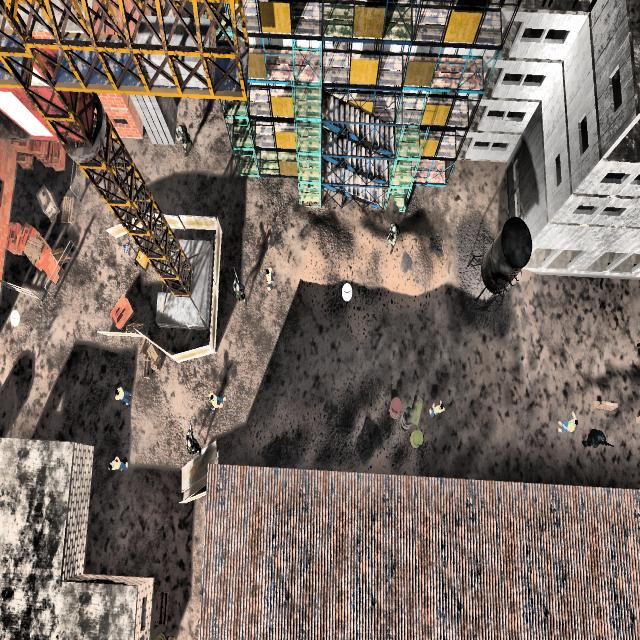bad: (582, 421, 614, 456), (229, 264, 248, 317), (172, 119, 194, 162), (183, 421, 204, 458), (386, 218, 400, 262)
good: (554, 406, 578, 442), (112, 377, 135, 412), (261, 251, 276, 301), (204, 386, 228, 417), (106, 453, 130, 479), (427, 394, 446, 425)
